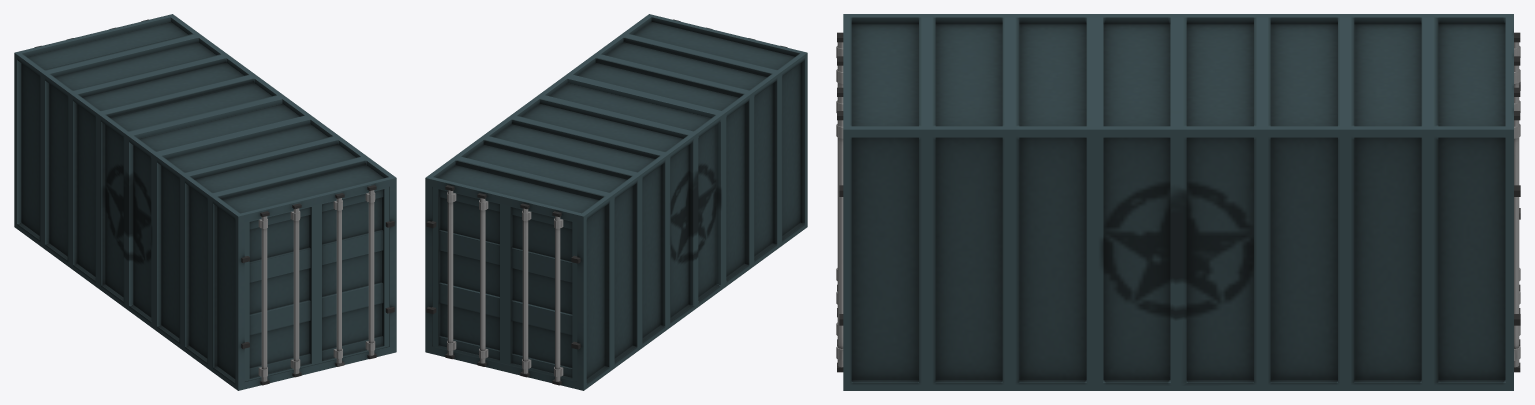
File: Container_Blue.fbx
3 renders of one model, left to right at view 1: azimuth 30°, elevation 25°; view 2: azimuth 150°, elevation 25°; view 3: azimuth 270°, elevation 25°, orthographic. The views are drawn at different scales.
Visible parts, largest first — view 1: Container_Body_Blue, Container_Door_Blue_1, Container_Door_Blue_2, Container_Pole_1 (×2), Container_Pole_2 (×2); view 2: Container_Body_Blue, Container_Door_Blue_4, Container_Door_Blue_3, Container_Pole_2 (×2), Container_Pole_1 (×2); view 3: Container_Body_Blue, Container_Pole_1 (×2).
Part boxes in pixels (x1,y1,x2,y2): Container_Body_Blue: (14, 14, 396, 390); Container_Door_Blue_1: (317, 187, 389, 363); Container_Door_Blue_2: (244, 204, 316, 381); Container_Pole_1 (×2): (258, 190, 375, 381); Container_Pole_2 (×2): (290, 198, 342, 373); Container_Body_Blue: (425, 14, 807, 390); Container_Door_Blue_4: (432, 187, 505, 363); Container_Door_Blue_3: (505, 204, 577, 381); Container_Pole_2 (×2): (479, 198, 531, 373); Container_Pole_1 (×2): (447, 190, 563, 381); Container_Body_Blue: (837, 14, 1520, 390); Container_Pole_1 (×2): (836, 120, 1520, 367).
Size of the model in its own units: 4.44 by 4.67 by 11.09.
